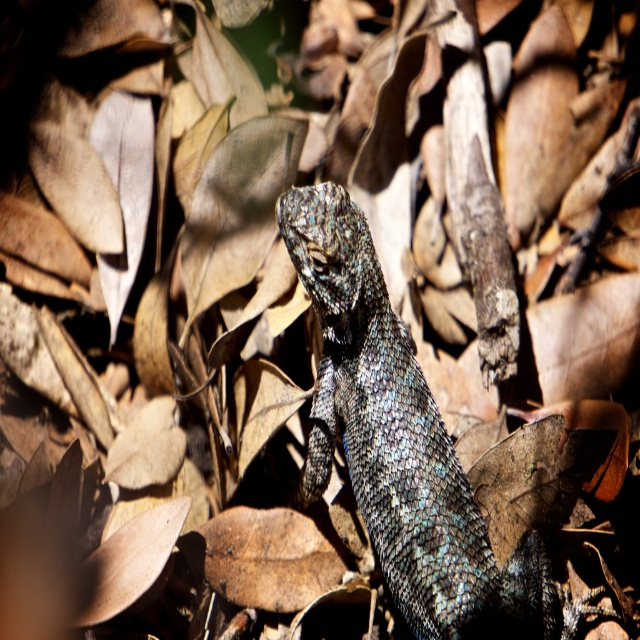Lizard: (276, 155, 523, 640)
